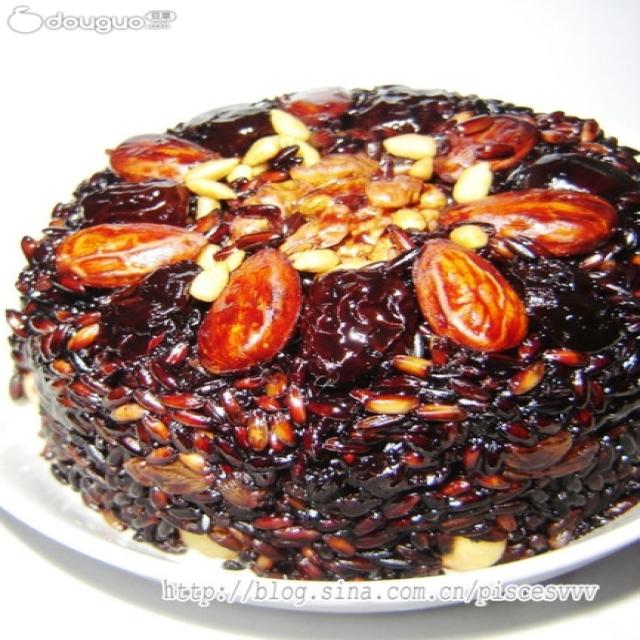米饭主食: (9, 82, 632, 597)
